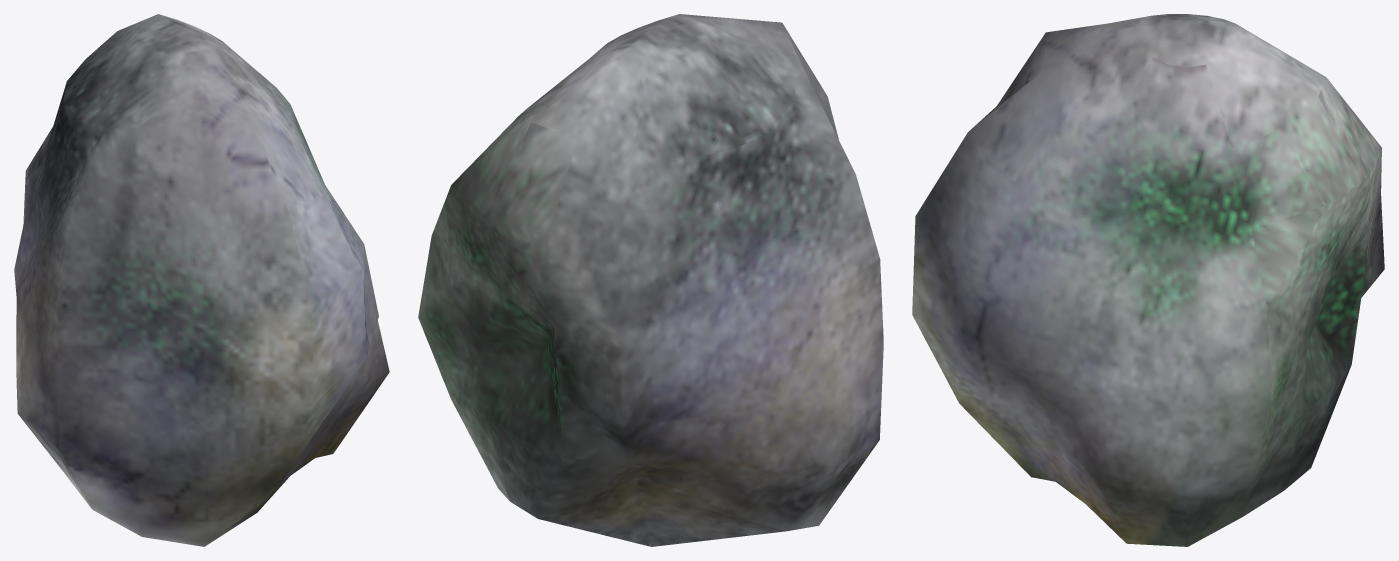
The model's file is Rocks 03.glb.
The picture shows the model from 3 angles, left to right: view 1: azimuth 30°, elevation 25°; view 2: azimuth 150°, elevation 25°; view 3: azimuth 270°, elevation 25°; orthographic projection. The views are drawn at different scales.
Visible parts, largest first — view 1: Rock 03; view 2: Rock 03; view 3: Rock 03.
Boxes of the visible parts, x1=… form: Rock 03: x1=14, y1=14, x2=389, y2=546; Rock 03: x1=418, y1=14, x2=883, y2=546; Rock 03: x1=912, y1=14, x2=1384, y2=546.
Size of what is drawn, in the model's own units: 1.88 by 2.38 by 2.11.
1 material, 1 textured.
